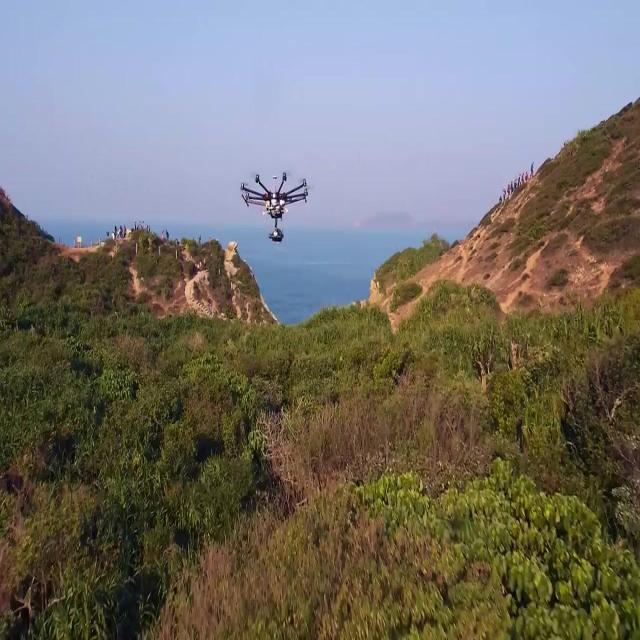drone: (238, 167, 312, 247)
